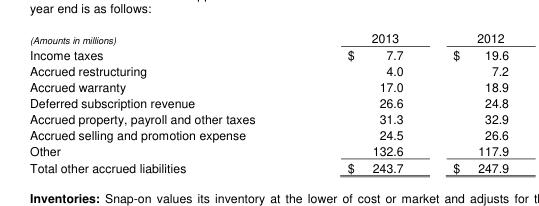table: (28, 29, 508, 175)
table column: (28, 29, 300, 175), (300, 29, 427, 175), (427, 29, 508, 175)
table column header: (28, 29, 508, 45)
table row: (28, 45, 508, 62), (28, 158, 508, 175), (28, 29, 508, 45), (28, 62, 508, 78), (28, 78, 508, 94), (28, 94, 508, 110), (28, 110, 508, 126), (28, 126, 508, 142), (28, 142, 508, 158)
